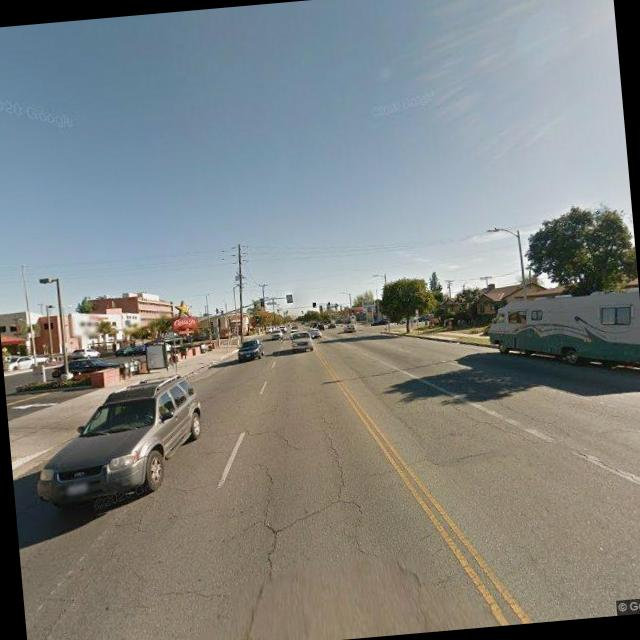crack: (216, 405, 416, 595)
pothole: (446, 394, 534, 450), (572, 441, 640, 494)
